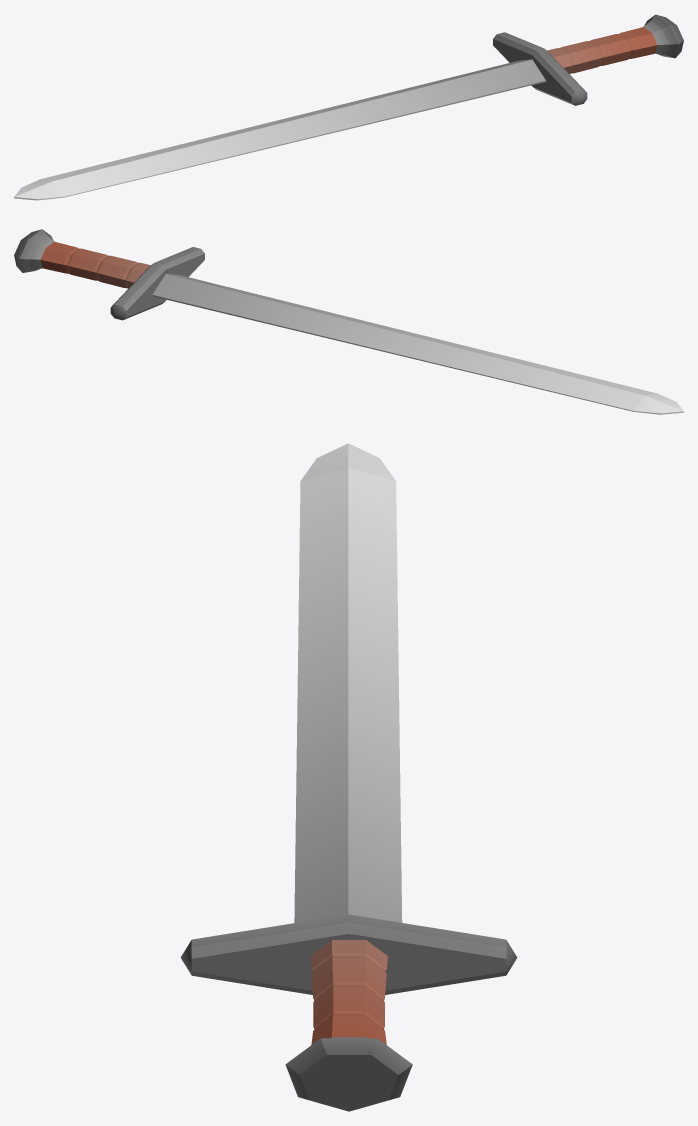
File: Sword_C.fbx
3 views of the same model, one above another, from view 1: azimuth 30°, elevation 25°; view 2: azimuth 150°, elevation 25°; view 3: azimuth 270°, elevation 25° (orthographic). The views are drawn at different scales.
Parts seen in each view (by area): view 1: Sword_C; view 2: Sword_C; view 3: Sword_C.
Part boxes in pixels (x1=…): Sword_C: x1=14, y1=14, x2=683, y2=200; Sword_C: x1=14, y1=229, x2=683, y2=414; Sword_C: x1=180, y1=443, x2=517, y2=1111.
Bounding box in the file's own units: 0.0117 × 0.000668 × 0.0026.
